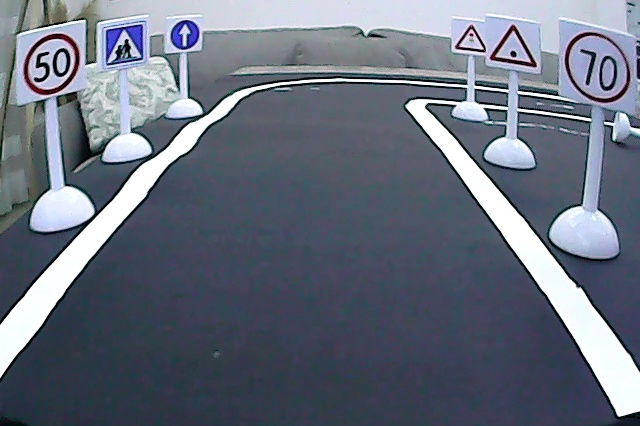green light: (487, 19, 541, 72)
red light: (452, 21, 487, 54)
school crossing: (100, 20, 147, 69)
speed limit 50: (19, 28, 84, 98)
speed limit 70: (561, 27, 636, 109)
